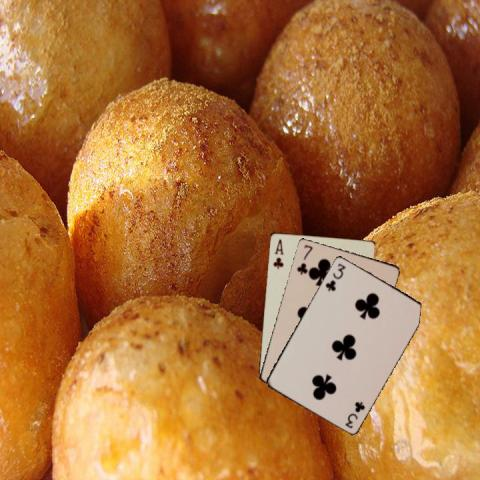3c: (322, 260, 347, 292), (342, 398, 367, 429)
7c: (293, 242, 314, 276)
Ac: (270, 236, 285, 270)
